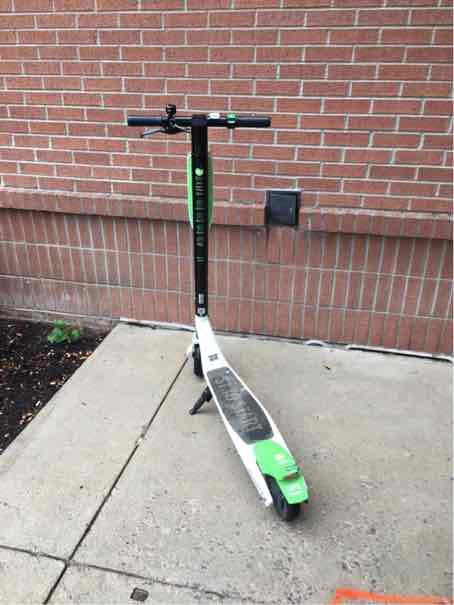scooter: (116, 103, 319, 528)
